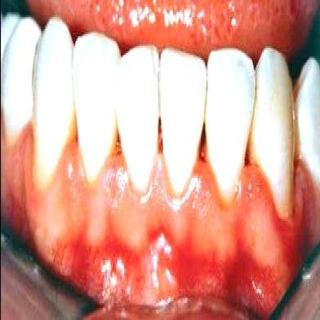Gum Swelling: (37, 143, 177, 248), (175, 164, 282, 266)
maligned: (161, 38, 207, 188), (113, 40, 161, 171)
